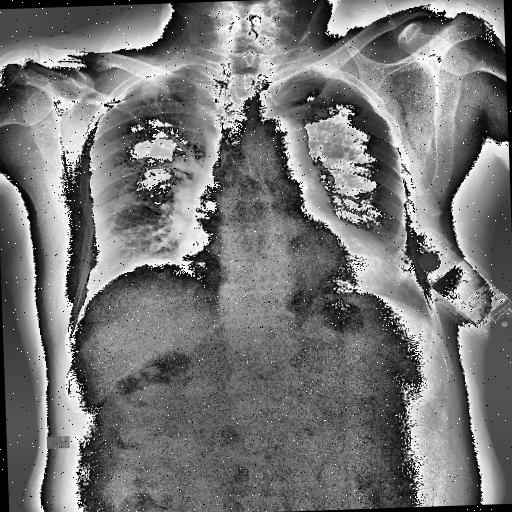0- Aortic enlargement: (242, 114, 312, 166), (250, 112, 312, 168), (252, 117, 310, 161)
3- Cardiomegaly: (172, 212, 396, 308), (173, 220, 397, 302), (176, 229, 399, 295)
7- Lung Opacity: (178, 62, 228, 158)
